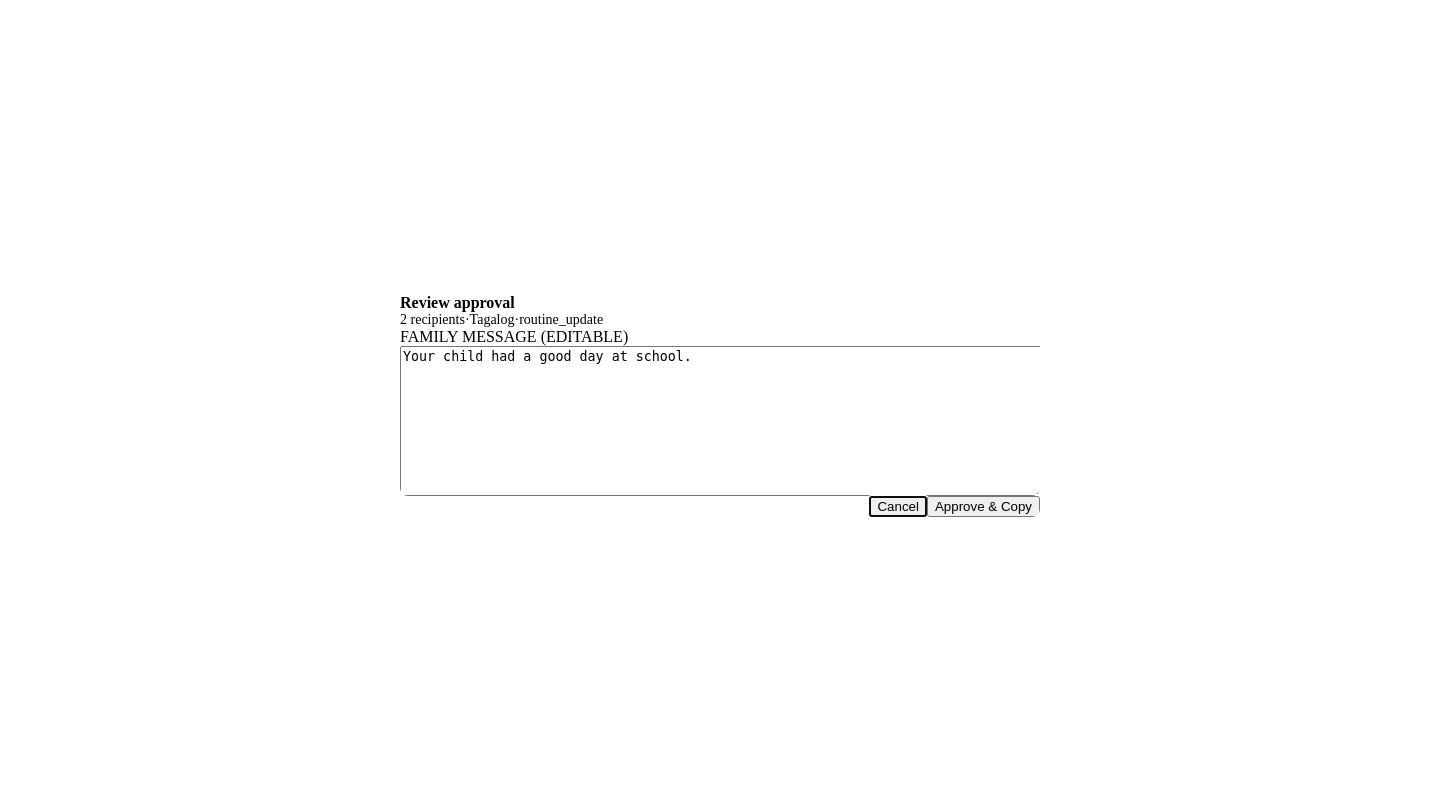
MessageApprovalDialog › shows an Edited badge once the textarea diverges from the draft
Expected: the text "Edited" is not shown
Type " More context." into the text box showing "good day at school".
click(723, 420); type(" More context.")  # box [400,346,1046,496]
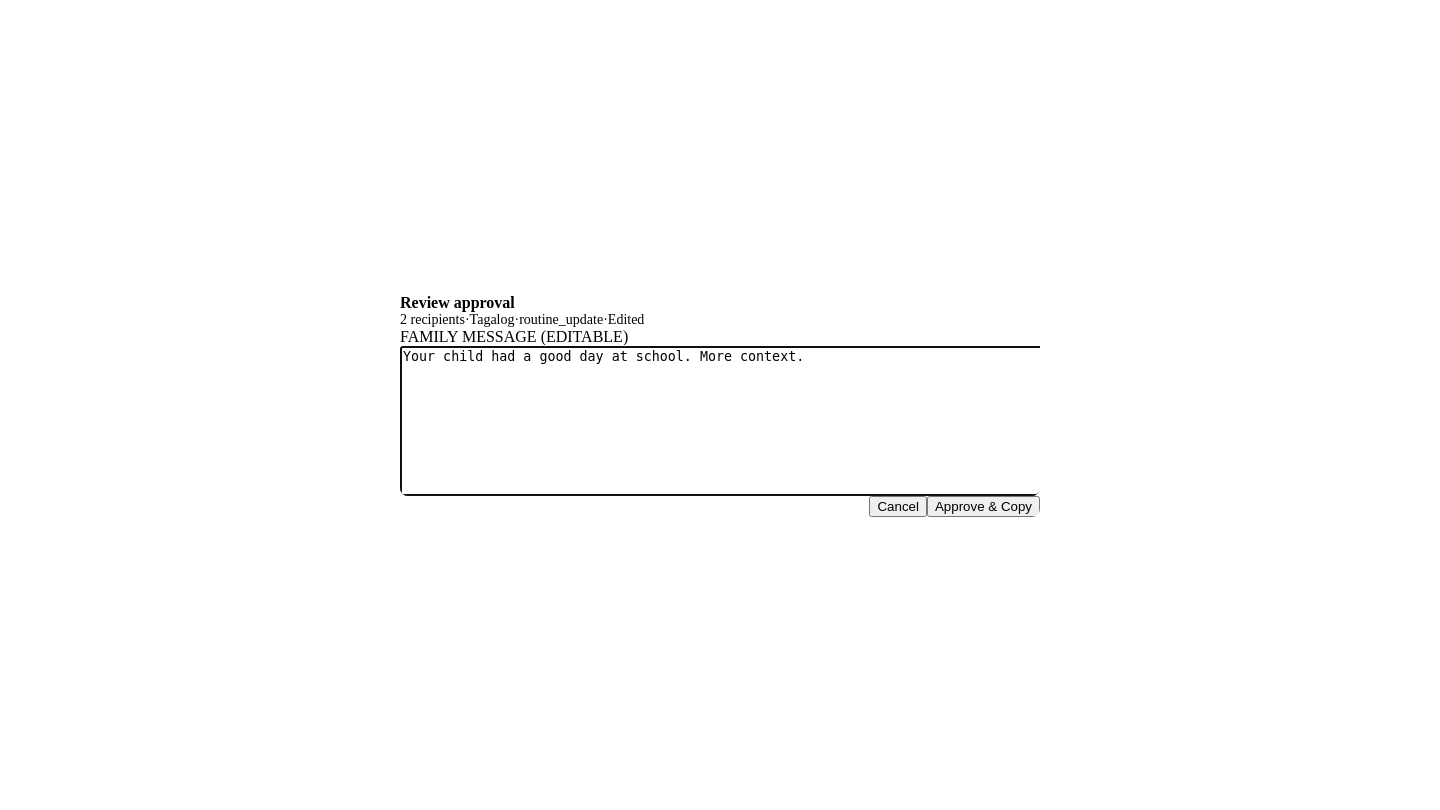
Expected: the text "Edited" is shown, [608,312,644,328]
